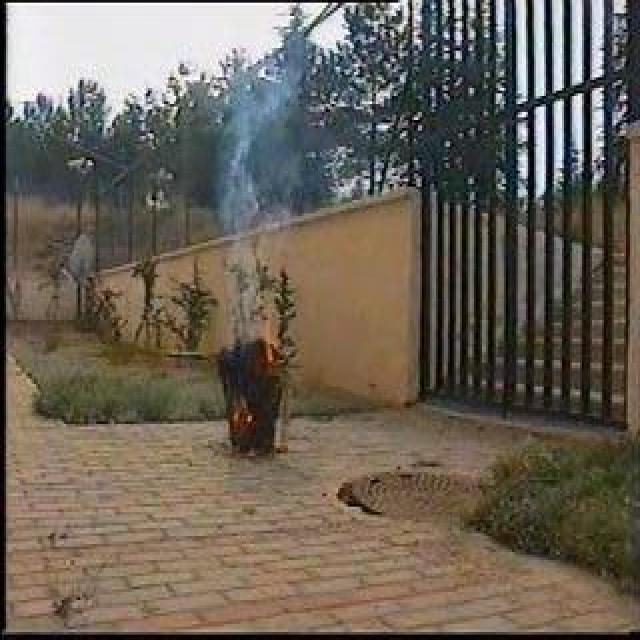fire: (249, 302, 279, 382)
smoke: (220, 60, 280, 303)
